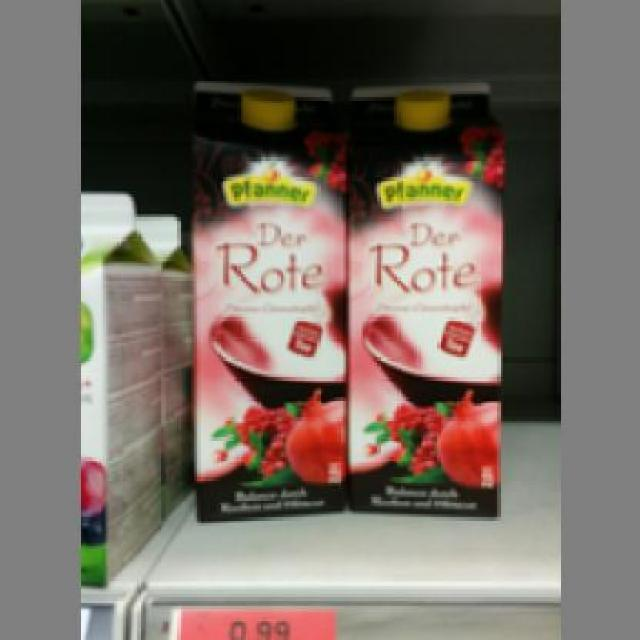Juice: (337, 77, 506, 517), (183, 74, 343, 520)
